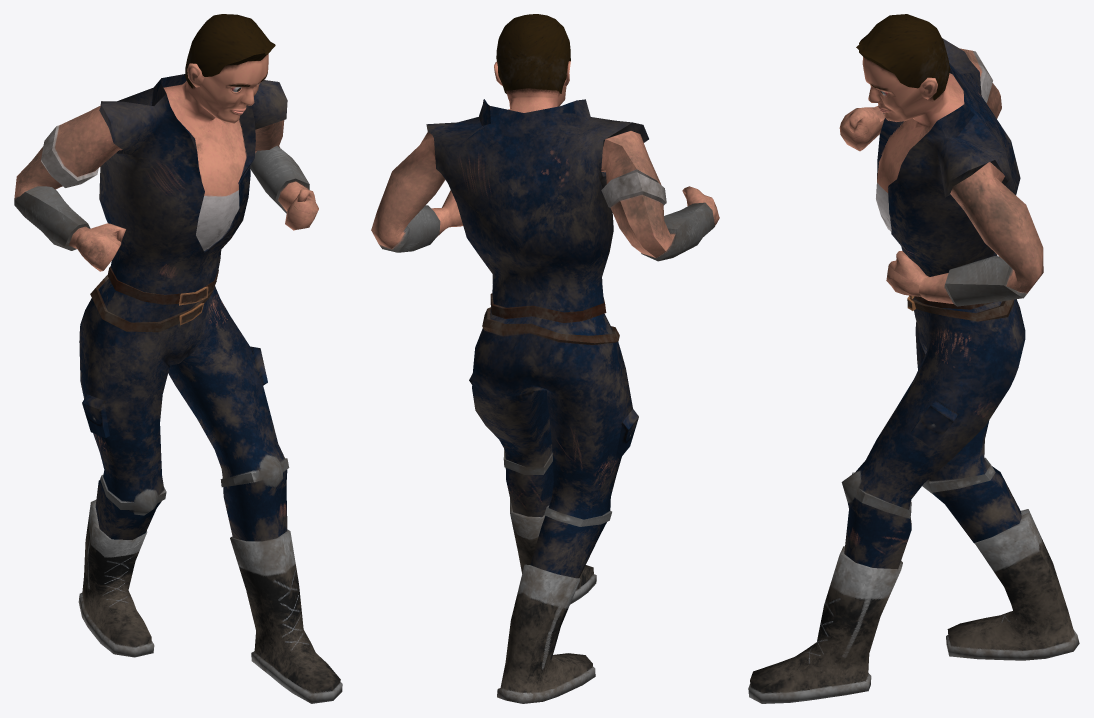
File: Anim_ataque_d1_jugador.0022.obj
The picture shows the model from 3 angles, left to right: view 1: azimuth 30°, elevation 25°; view 2: azimuth 150°, elevation 25°; view 3: azimuth 270°, elevation 25°; orthographic projection. The views are drawn at different scales.
Visible parts, largest first — view 1: polySurface1; view 2: polySurface1; view 3: polySurface1.
Boxes of the visible parts, x1,y1,x2,y2 form: polySurface1: (14, 14, 342, 703); polySurface1: (371, 14, 719, 703); polySurface1: (748, 14, 1079, 703).
Size of the model in its own units: 4.34 by 9.16 by 4.13.
